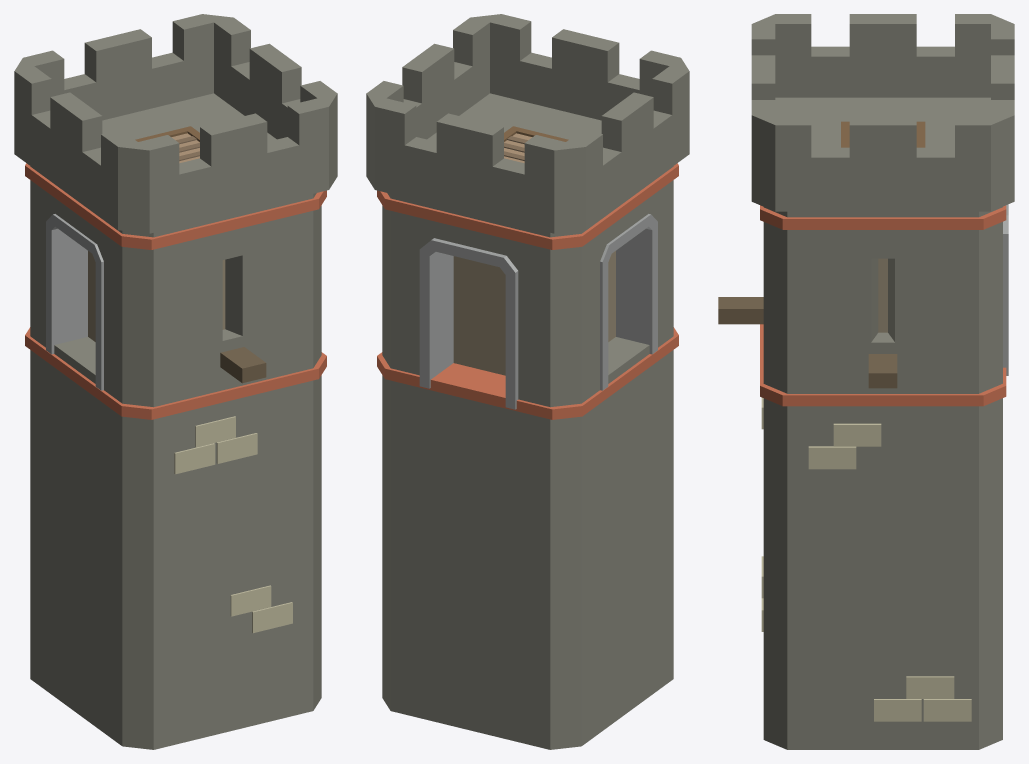
File: Tower_3.fbx
3 renders of one model, left to right at view 1: azimuth 30°, elevation 25°; view 2: azimuth 150°, elevation 25°; view 3: azimuth 270°, elevation 25°, orthographic. The views are drawn at different scales.
Parts seen in each view (by area): view 1: Tower_3; view 2: Tower_3; view 3: Tower_3.
Boxes of the visible parts, box(x1,y1,x2,y2) form: Tower_3: box(14, 14, 337, 749); Tower_3: box(366, 14, 689, 749); Tower_3: box(718, 14, 1014, 749).
Size of the model in its own units: 99.14 by 232 by 99.14.
Materials: 1 (1 with a texture image).
